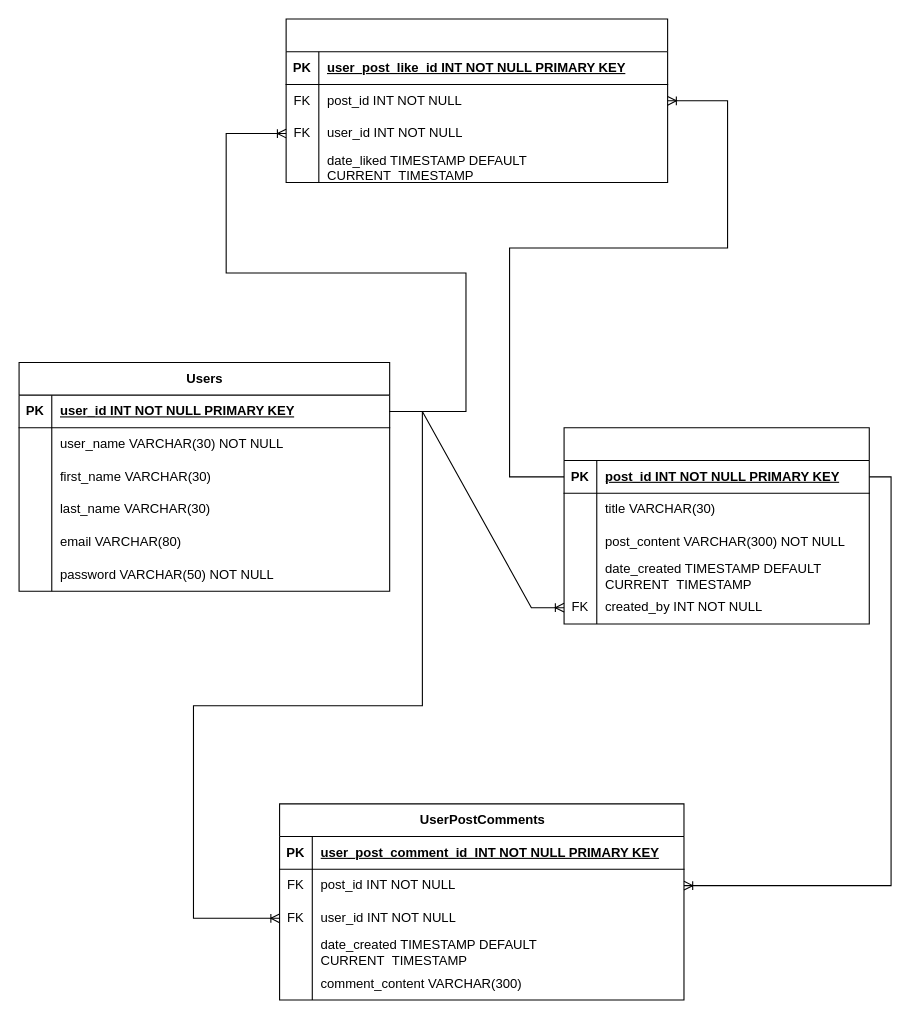
The diagram is 919 pixels wide and 1019 high, and some of its shapes have lost their labels. Each missing label, with the box of its shape:
Posts: (563, 427, 869, 624)
UserPostLikes: (285, 18, 668, 183)
